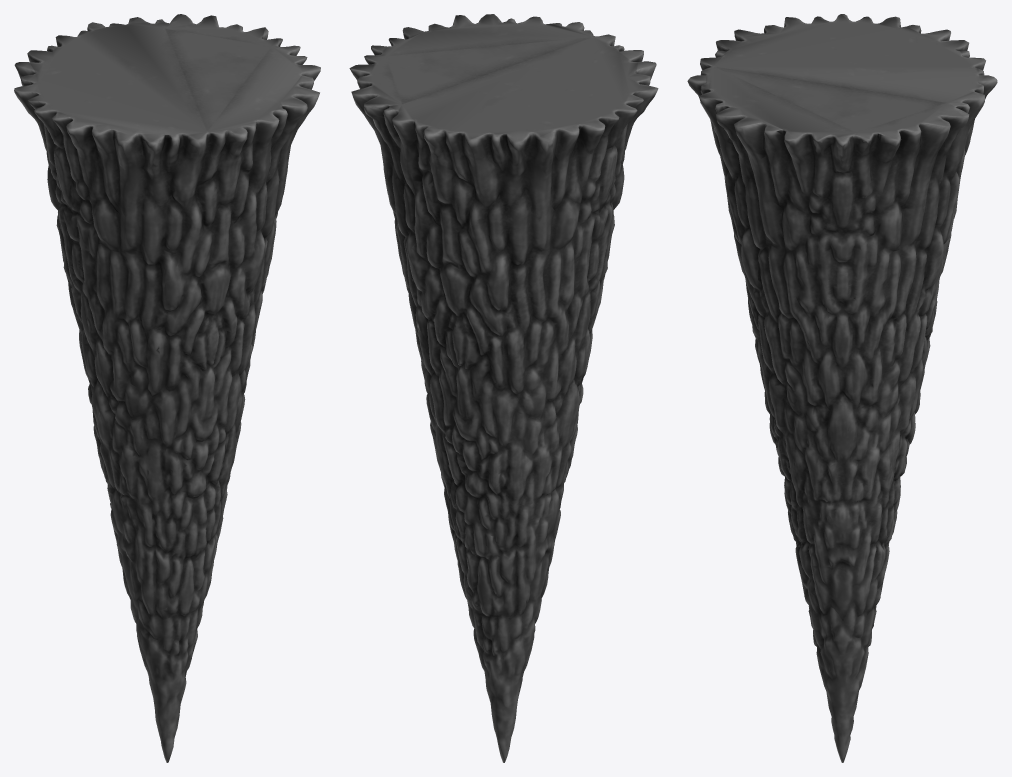
File: MZ4250 - Piercer Hiding 2025 4K.glb
3 views of the same model, side by side, from view 1: azimuth 30°, elevation 25°; view 2: azimuth 150°, elevation 25°; view 3: azimuth 270°, elevation 25° (orthographic).
Visible parts, largest first — view 1: ORGANIC BASE SPHERE.002; view 2: ORGANIC BASE SPHERE.002; view 3: ORGANIC BASE SPHERE.002.
Part boxes in pixels (bbox=[...]): ORGANIC BASE SPHERE.002: bbox=[14, 14, 320, 762]; ORGANIC BASE SPHERE.002: bbox=[349, 14, 658, 762]; ORGANIC BASE SPHERE.002: bbox=[687, 14, 997, 762].
Bounding box in the file's own units: 46.92 × 116 × 47.6.
1 material, 1 textured.
